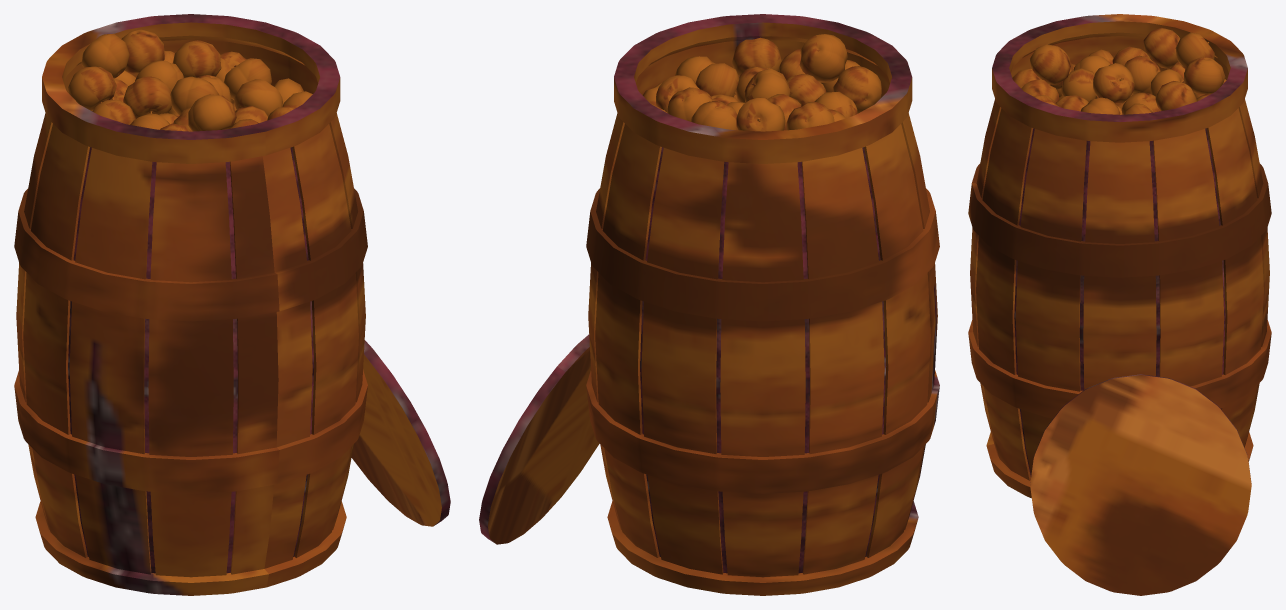
Rendered from fruit barrel_5.fbx.
3 views of the same model, side by side, from view 1: azimuth 30°, elevation 25°; view 2: azimuth 150°, elevation 25°; view 3: azimuth 270°, elevation 25° (orthographic). The views are drawn at different scales.
Visible parts, largest first — view 1: Circle.007, Circle.011, Plane.1172, Plane.1178, Plane.1170, Plane.1180, Plane.1183, Plane.1187, Plane.1188, Plane.1185, Plane.1189, Plane.1168 (+1 smaller); view 2: Circle.007, Circle.011, Plane.1170, Plane.1163, Plane.1180, Plane.1176, Plane.1188, Plane.1185, Plane.1187, Plane.1172, Plane.1183, Plane.1164 (+2 smaller); view 3: Circle.007, Circle.011, Plane.1185, Plane.1170, Plane.1187, Plane.1172, Plane.1183, Plane.1180, Plane.1178, Plane.1164, Plane.1179, Plane.1188 (+2 smaller).
Boxes of the visible parts, x1,y1,x2,y2 form: Circle.007: (14,14,367,595); Circle.011: (351,340,450,526); Plane.1172: (68,66,116,110); Plane.1178: (123,76,171,118); Plane.1170: (188,94,236,131); Plane.1180: (81,33,129,78); Plane.1183: (172,40,221,77); Plane.1187: (121,29,164,74); Plane.1188: (234,79,282,116); Plane.1185: (170,76,219,115); Plane.1189: (224,58,271,99); Plane.1168: (135,60,183,91); Circle.007: (586,14,939,595); Circle.011: (479,334,599,544); Plane.1170: (799,34,847,82); Plane.1163: (833,66,881,113); Plane.1180: (736,97,785,131); Plane.1176: (732,37,781,76); Plane.1188: (695,63,739,97); Plane.1185: (744,68,790,102); Plane.1187: (691,101,737,130); Plane.1172: (786,102,834,130); Plane.1183: (667,87,712,121); Plane.1164: (786,74,826,106); Circle.007: (968,14,1271,498); Circle.011: (1030,374,1251,595); Plane.1185: (1093,63,1134,103); Plane.1170: (1030,44,1070,84); Plane.1187: (1184,57,1225,94); Plane.1172: (1143,27,1180,68); Plane.1183: (1155,81,1197,110); Plane.1180: (1175,32,1214,68); Plane.1178: (1124,55,1160,94); Plane.1164: (1061,68,1095,102); Plane.1179: (1021,79,1059,102); Plane.1188: (1081,97,1120,114).
Bounding box in the file's own units: 45.26 × 58.23 × 35.65.
